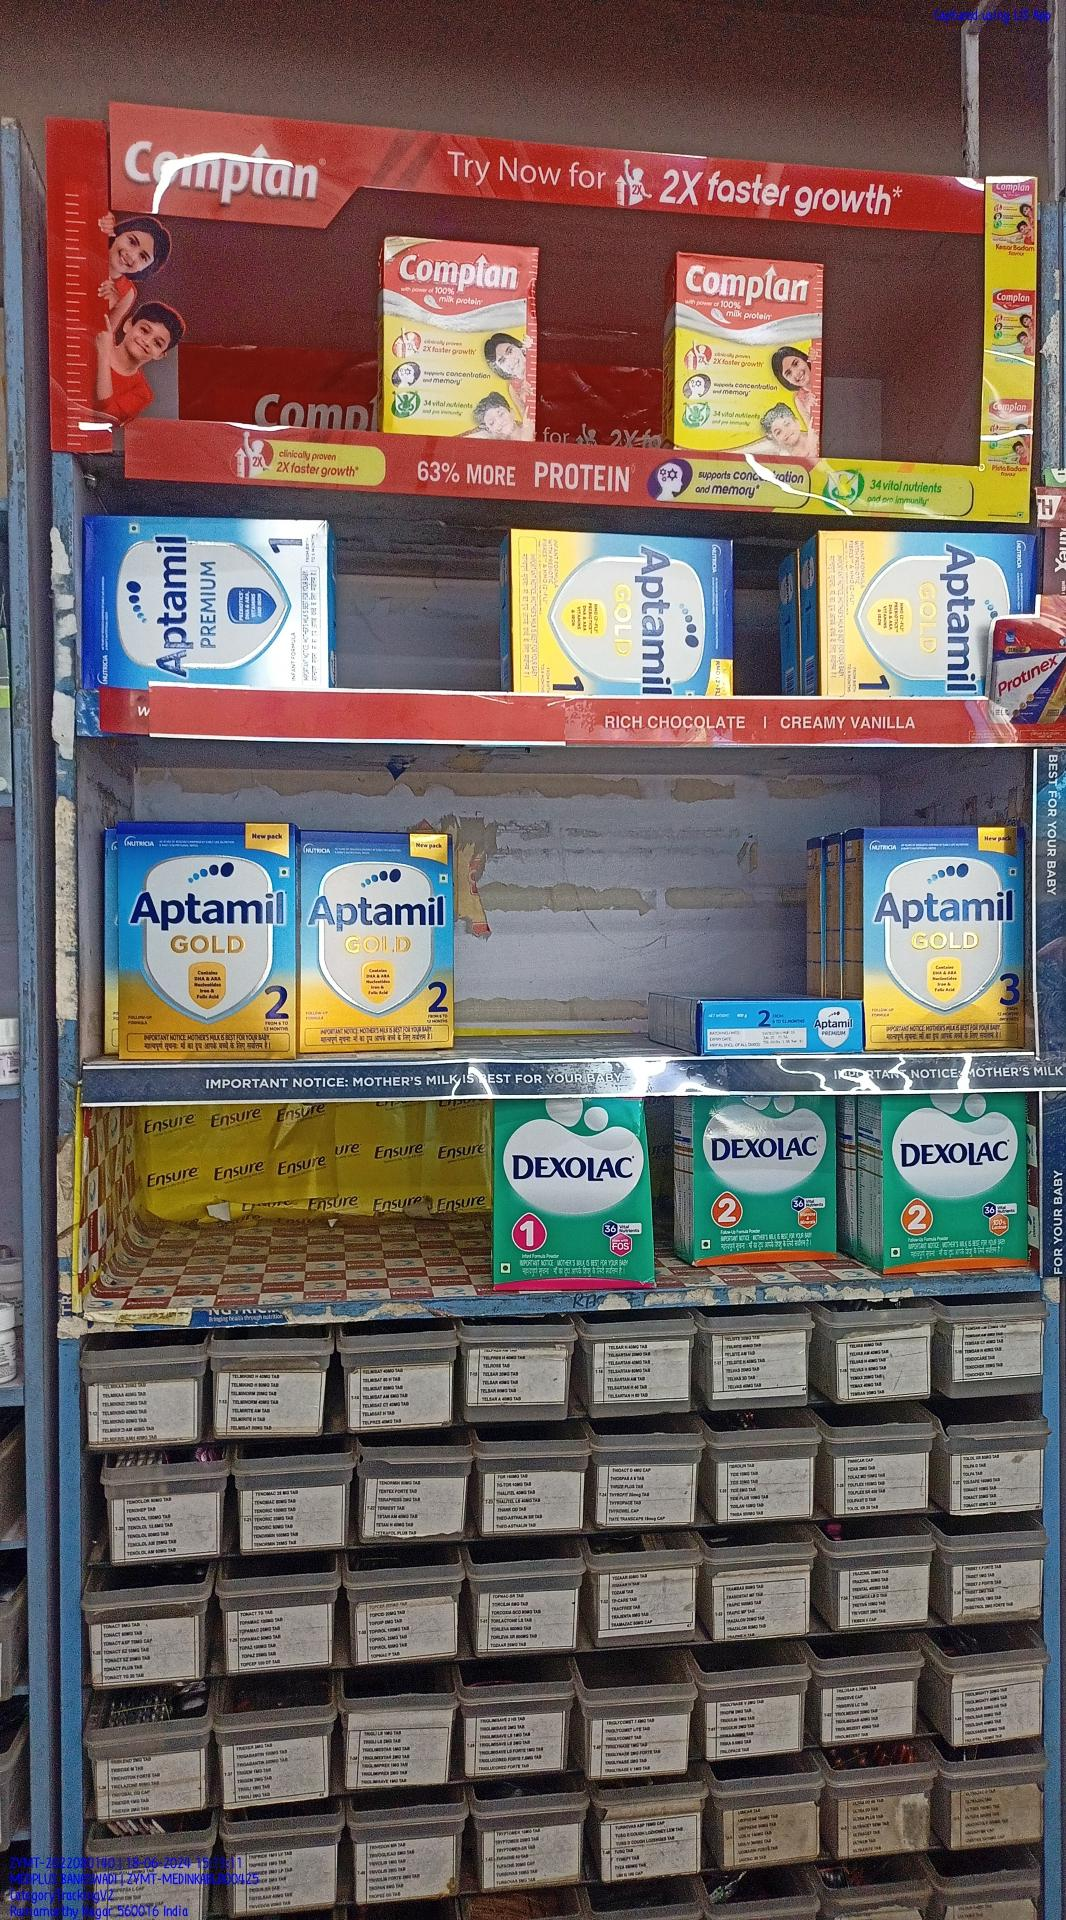COMPLAN_KESAR_BADAM_500_GMS_PACK: (385, 235, 538, 440), (676, 252, 823, 457)
